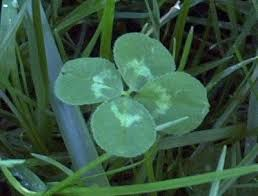4-clover: (58, 32, 208, 156)
